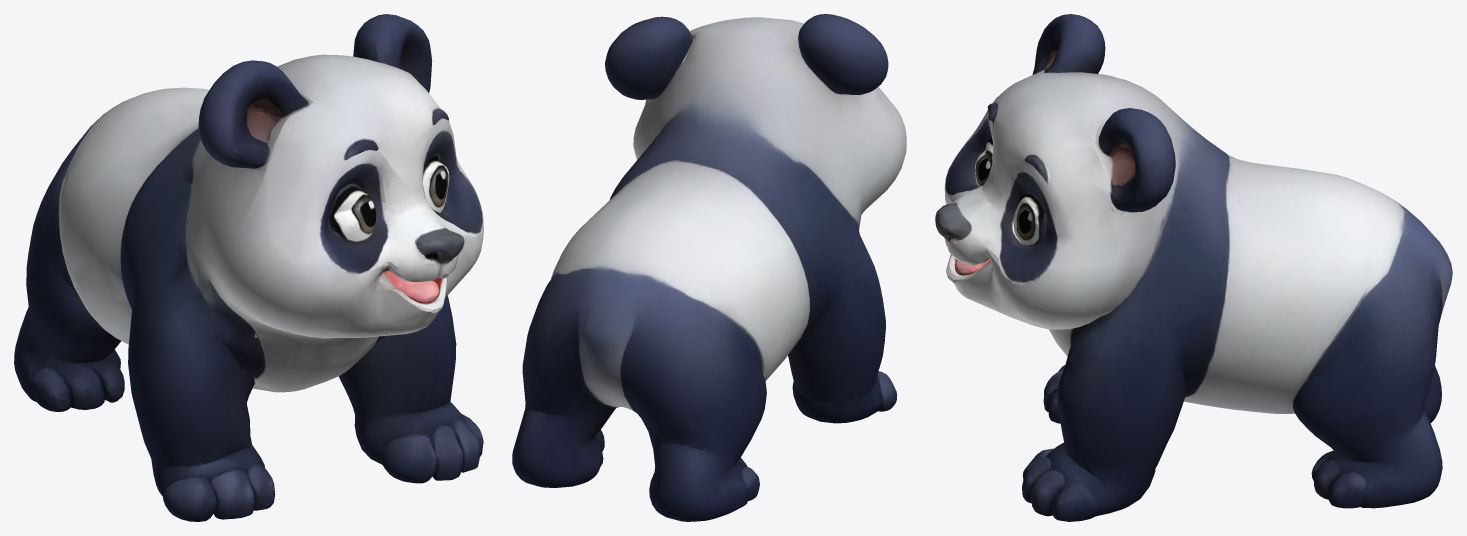
Rendered from panda.glb.
3 renders of one model, left to right at view 1: azimuth 30°, elevation 25°; view 2: azimuth 150°, elevation 25°; view 3: azimuth 270°, elevation 25°, orthographic. The views are drawn at different scales.
Parts seen in each view (by area): view 1: model; view 2: model; view 3: model.
Part boxes in pixels (left/top/right/bottom): model: left=14, top=14, right=483, bottom=521; model: left=512, top=14, right=906, bottom=521; model: left=935, top=14, right=1452, bottom=521.
Size of the model in its own units: 1.2 by 1.64 by 1.9.
1 material, 1 textured.
